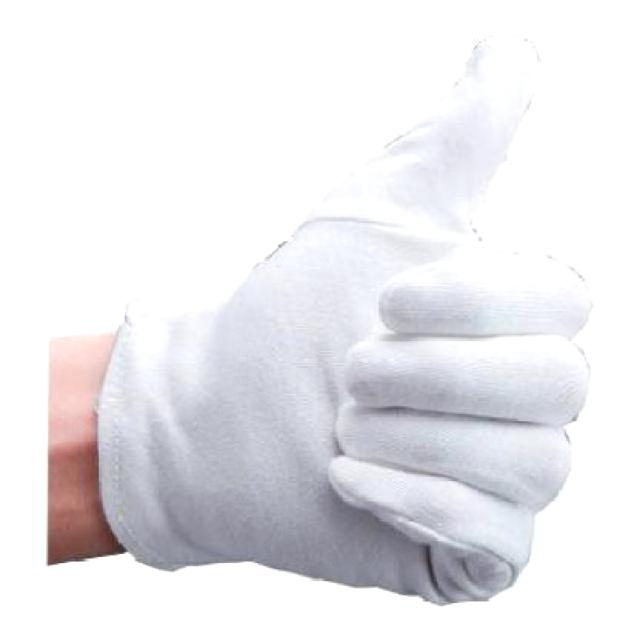hand_glove: (178, 28, 592, 606)
